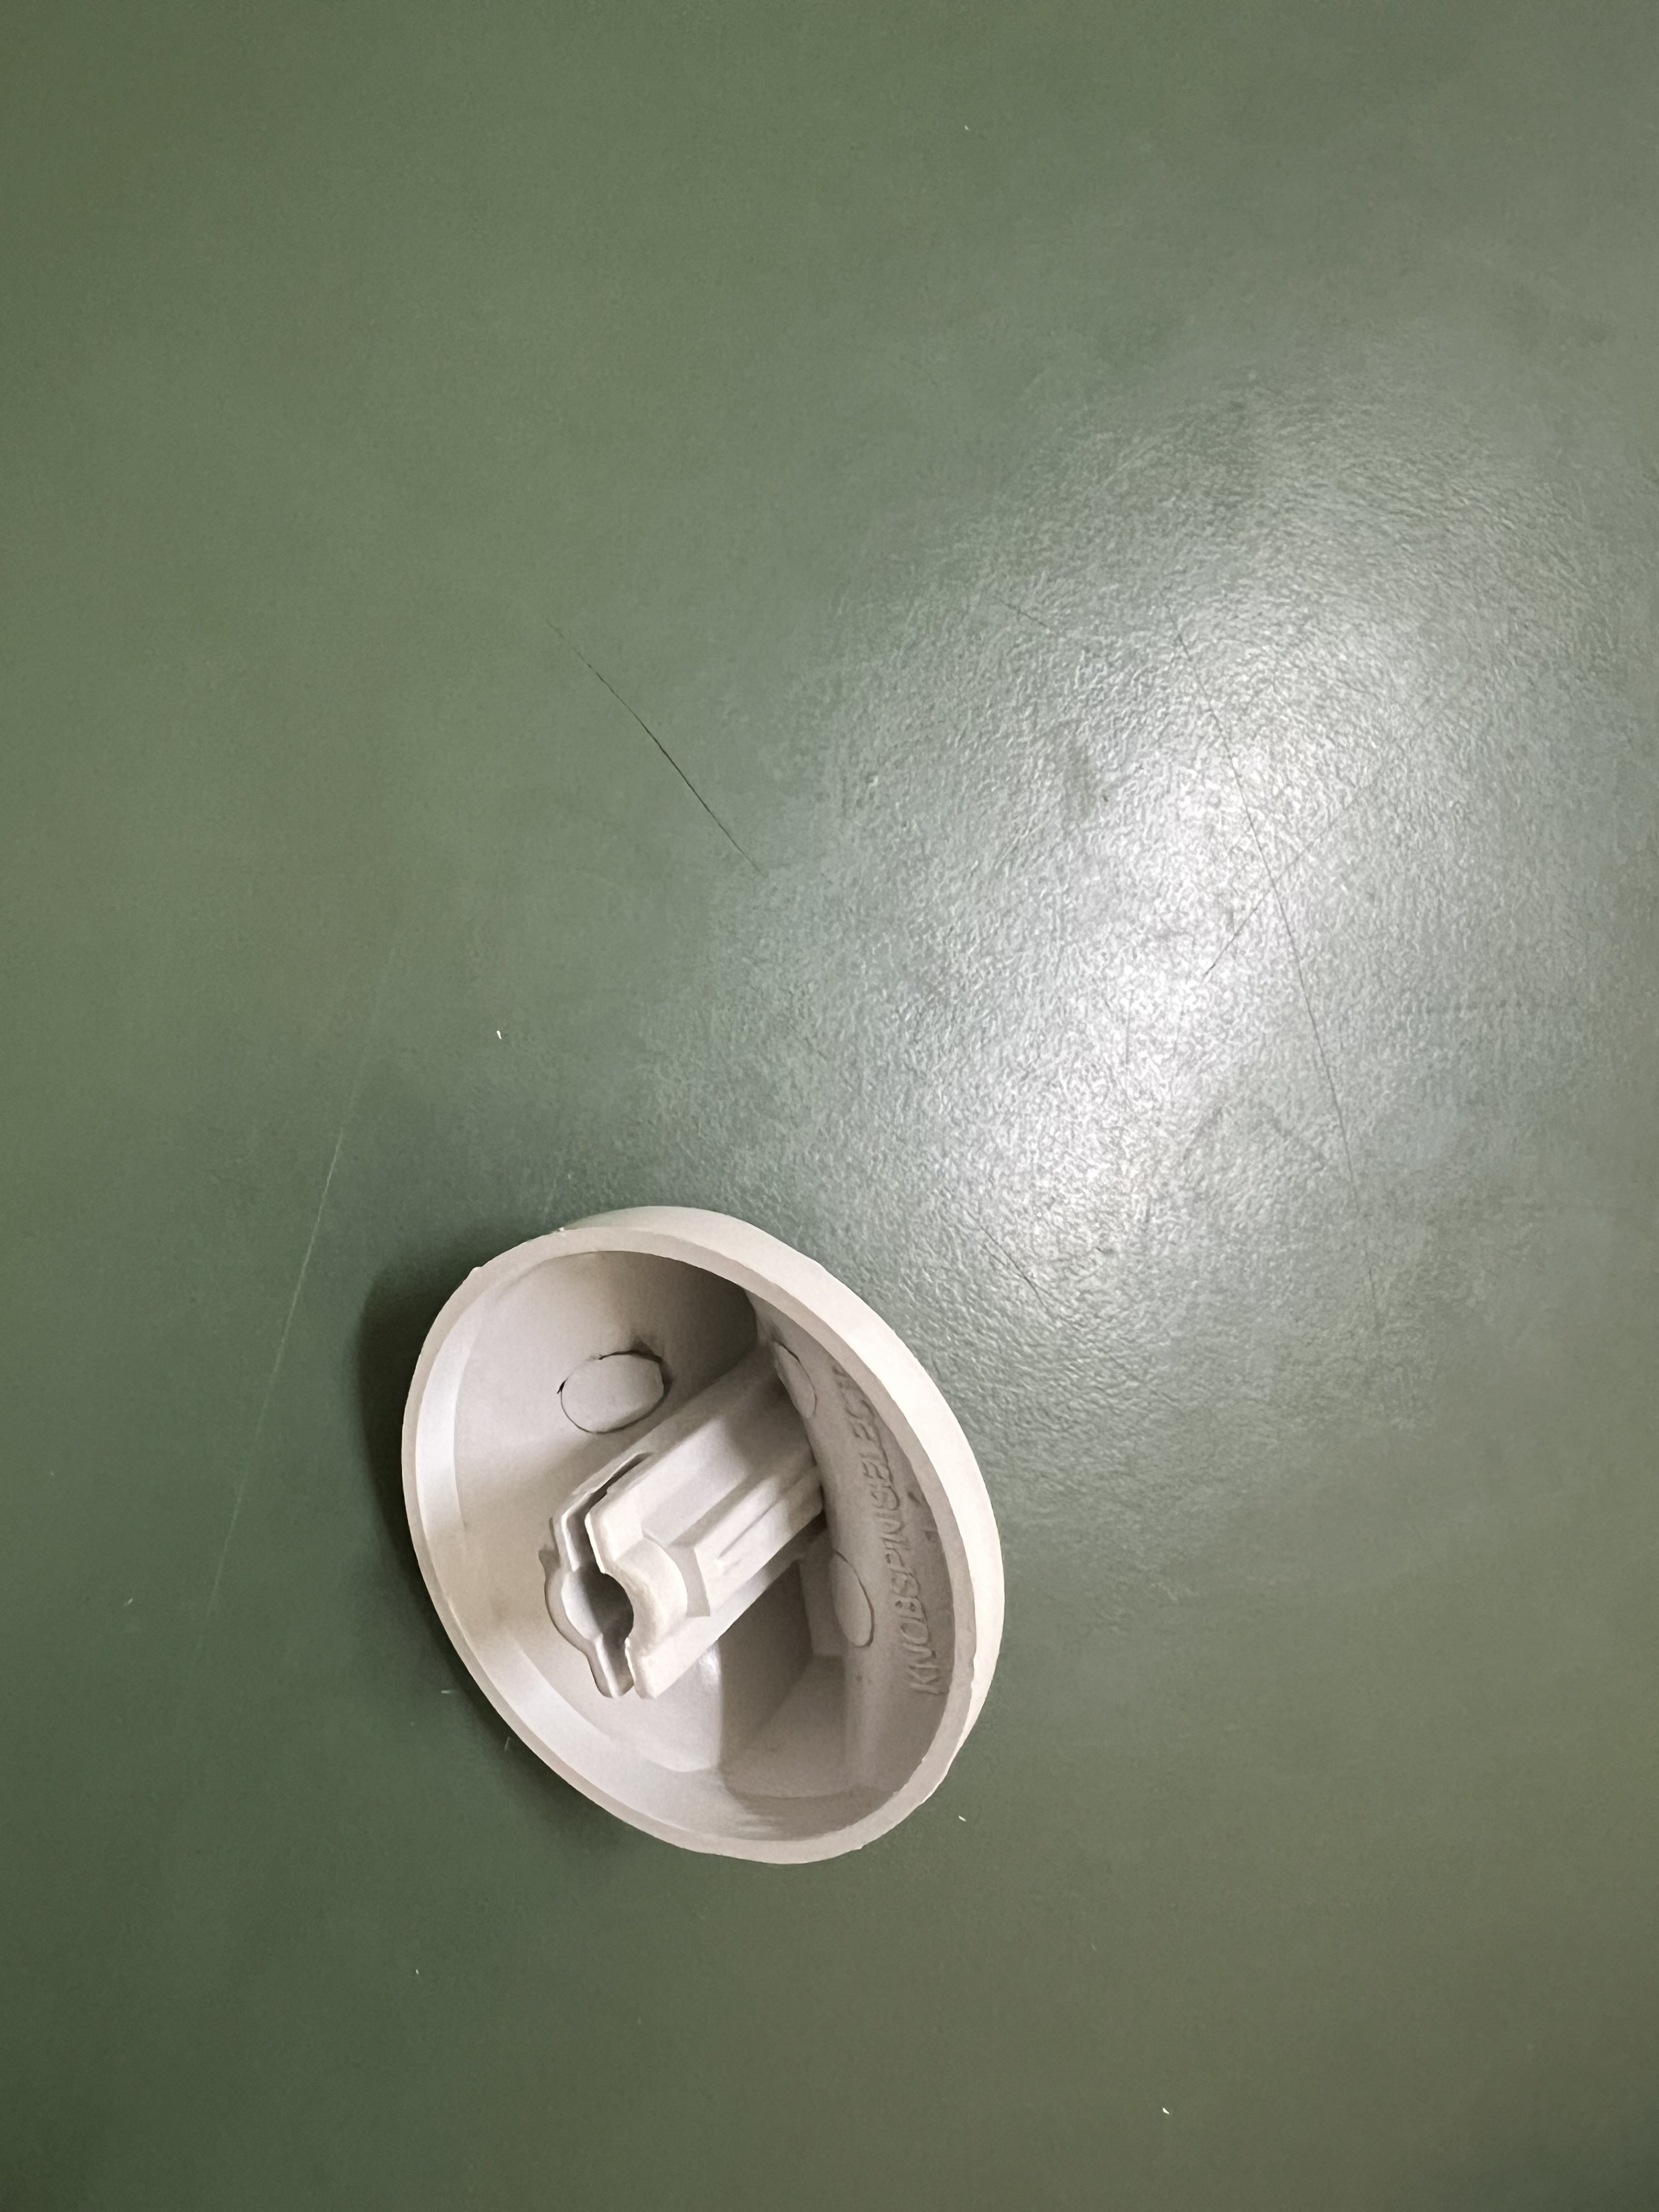regulator: (413, 1191, 1016, 1900)
